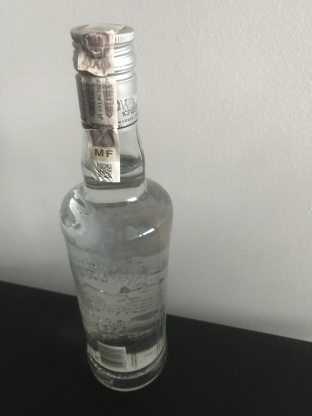nakretka: (68, 20, 139, 135)
